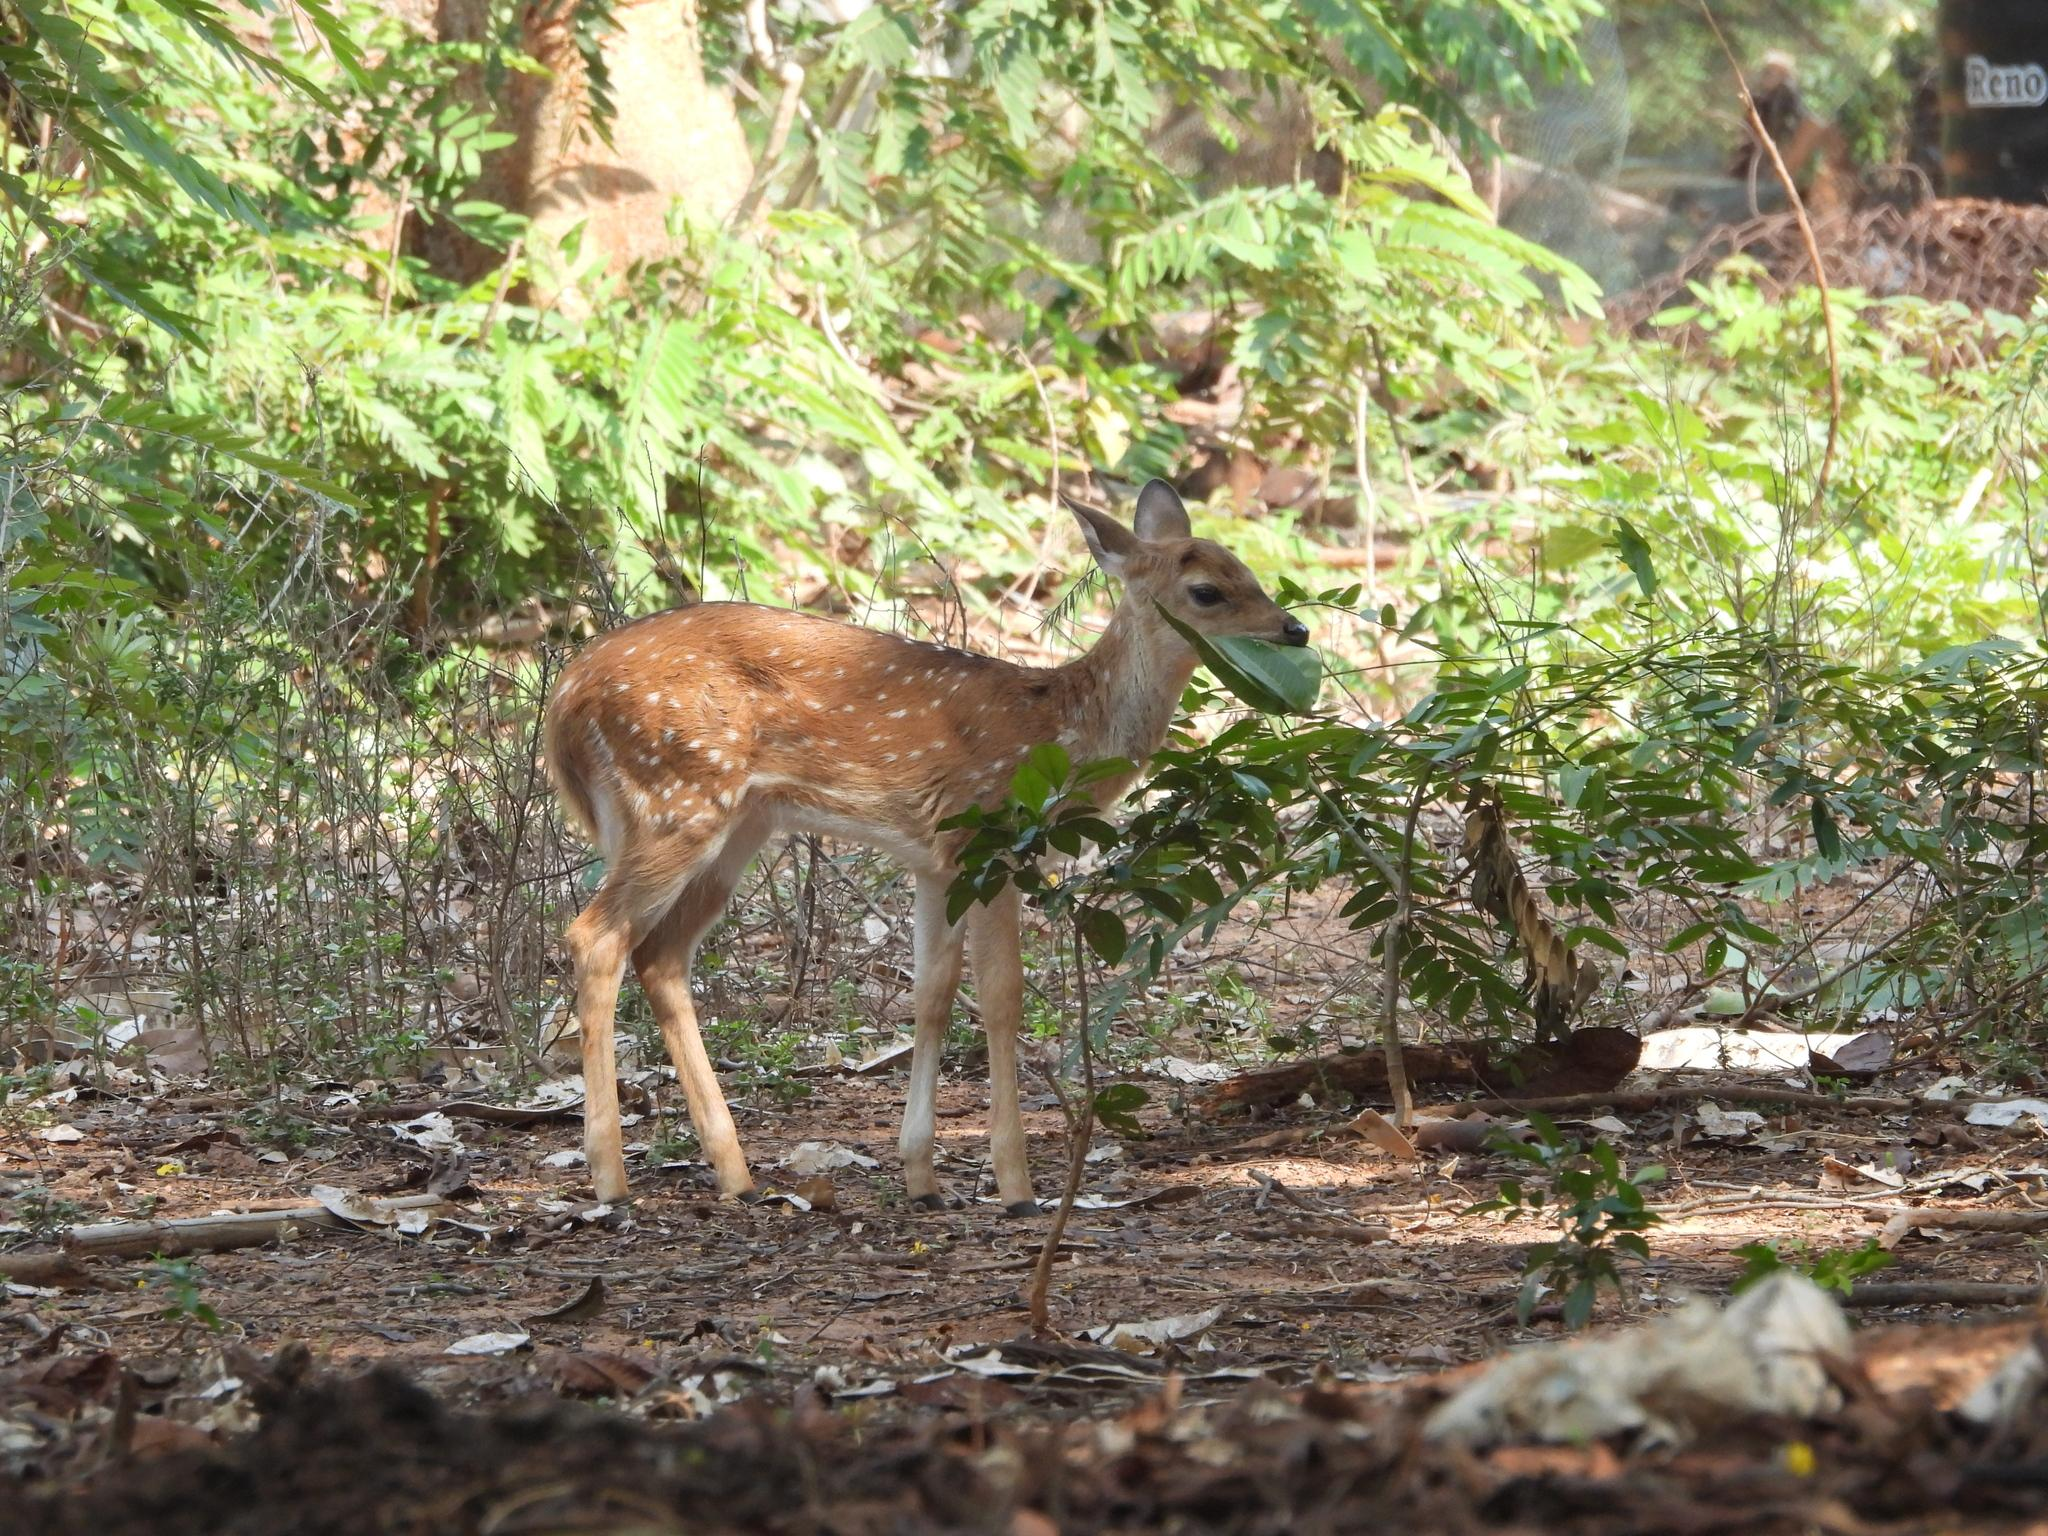Deer: (545, 481, 1308, 1205)
